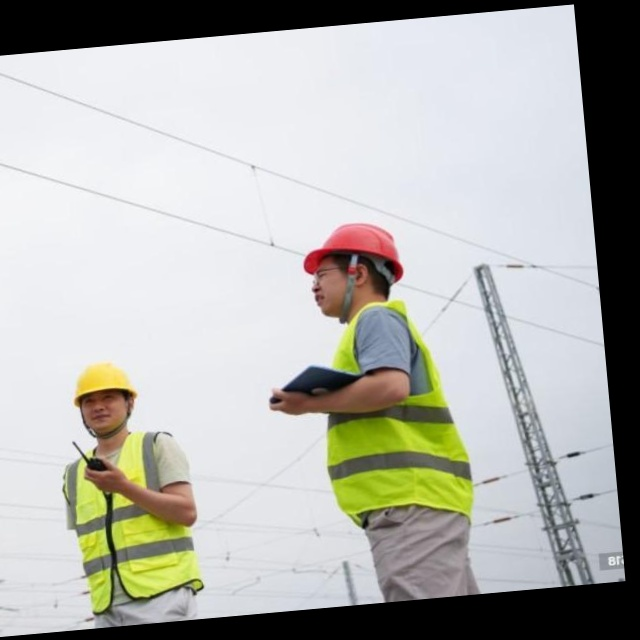Con_Casco: (301, 218, 406, 315), (71, 358, 141, 439)
Con_Chaleco: (309, 300, 472, 526), (56, 427, 200, 605)
